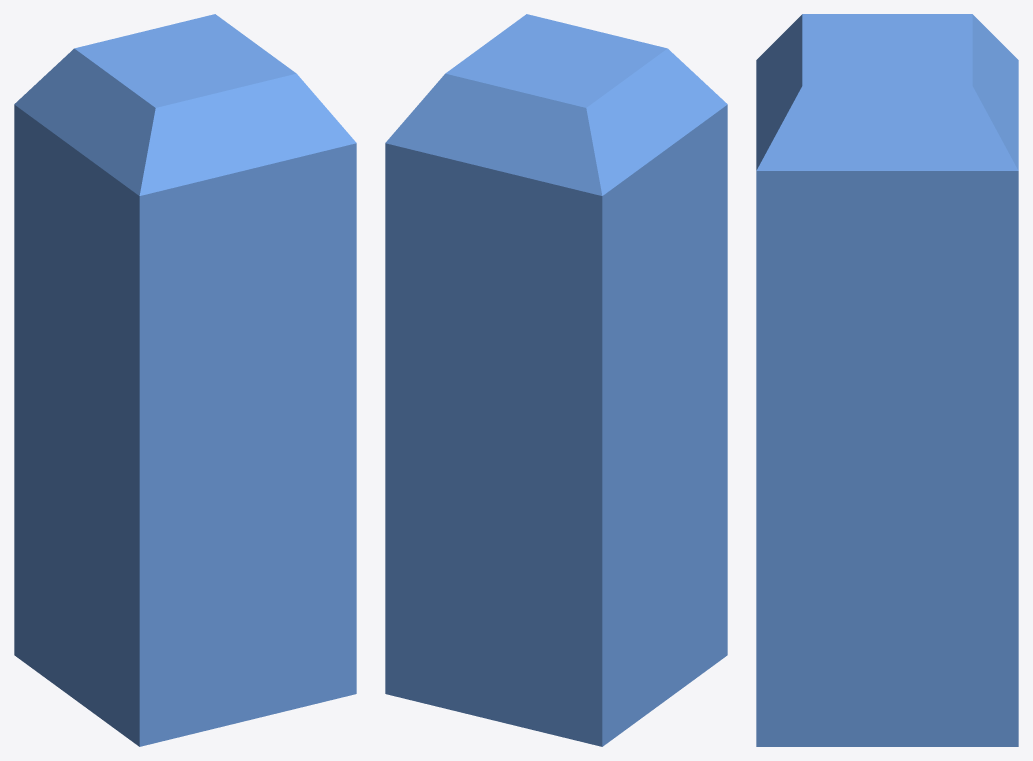
Rendered from Crystal_Blue_B.fbx.
3 renders of one model, left to right at view 1: azimuth 30°, elevation 25°; view 2: azimuth 150°, elevation 25°; view 3: azimuth 270°, elevation 25°, orthographic. The views are drawn at different scales.
Parts seen in each view (by area): view 1: Crystal_Blue_B; view 2: Crystal_Blue_B; view 3: Crystal_Blue_B.
Part boxes in pixels (x1,y1,x2,y2): Crystal_Blue_B: [14, 14, 356, 746]; Crystal_Blue_B: [385, 14, 727, 746]; Crystal_Blue_B: [756, 14, 1018, 746].
Bounding box in the file's own units: 38.15 × 103 × 38.15.
